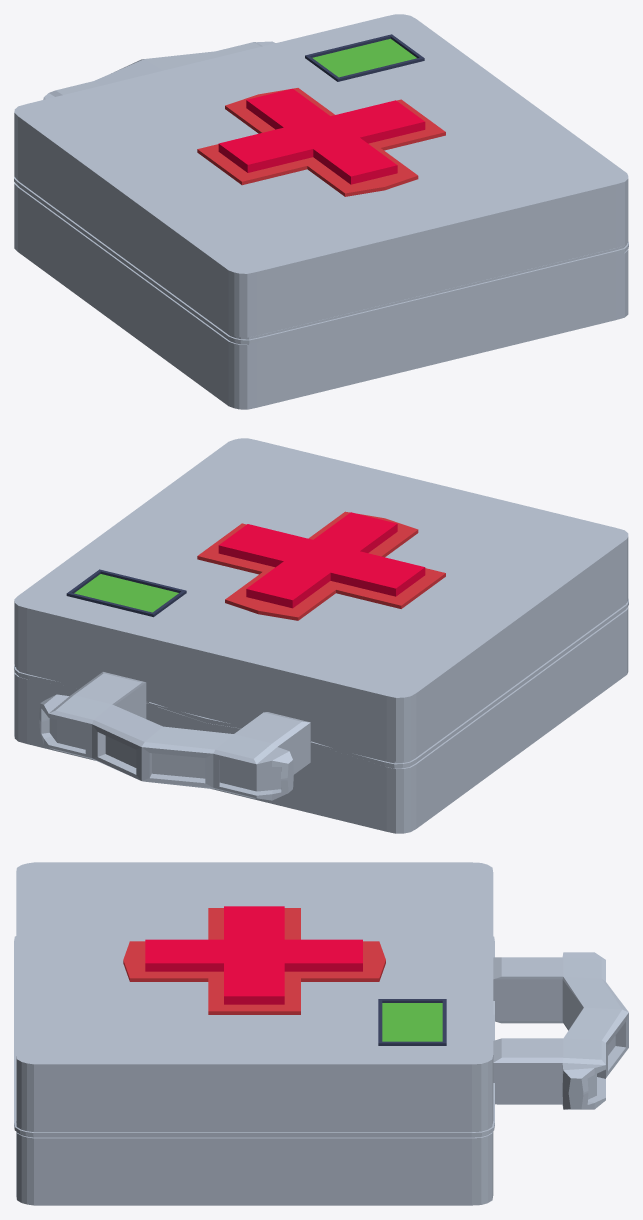
The model's file is medkit.glb.
3 renders of one model, top to bottom at view 1: azimuth 30°, elevation 25°; view 2: azimuth 150°, elevation 25°; view 3: azimuth 270°, elevation 25°, orthographic. The views are drawn at different scales.
Visible parts, largest first — view 1: Cube, Cube.001; view 2: Cube, Cube.001; view 3: Cube, Cube.001.
Boxes of the visible parts, box(x1,y1,x2,y2) form: Cube: box(14, 14, 628, 409); Cube.001: box(305, 34, 424, 81); Cube: box(14, 438, 628, 833); Cube.001: box(66, 569, 186, 617); Cube: box(14, 862, 628, 1205); Cube.001: box(378, 999, 446, 1045).
Bounding box in the file's own units: 2 × 0.7074 × 2.57.
Materials: 1 (1 with a texture image).
